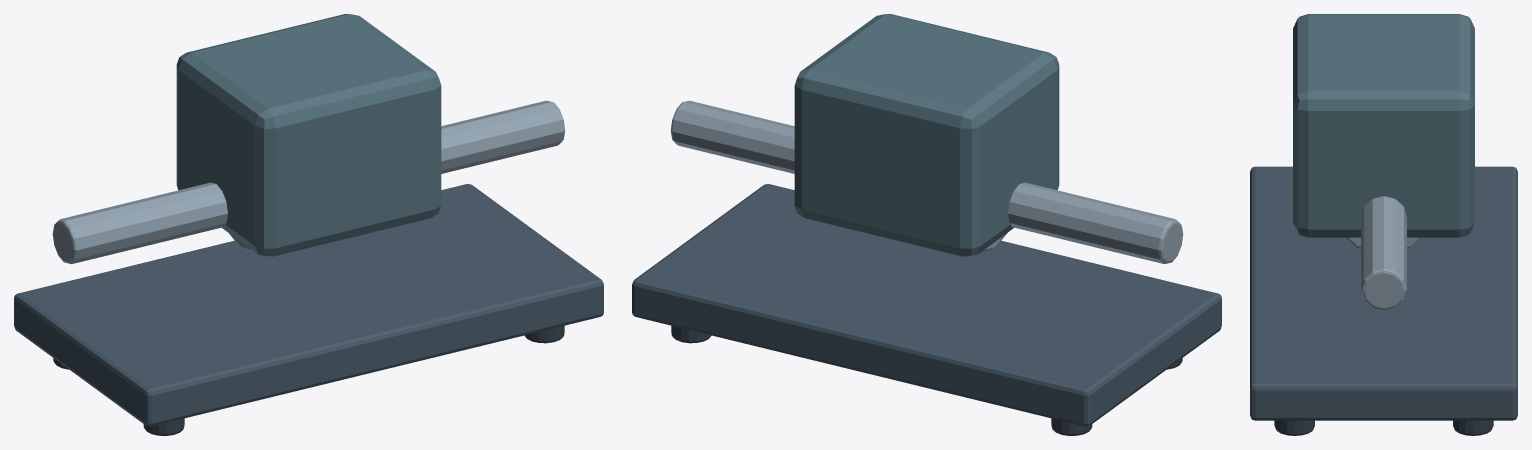
File: flexible-coupling-lod2.glb
3 renders of one model, left to right at view 1: azimuth 30°, elevation 25°; view 2: azimuth 150°, elevation 25°; view 3: azimuth 270°, elevation 25°, orthographic.
Parts seen in each view (by area): view 1: drive_base, coupling_guard, input_shaft, output_shaft; view 2: drive_base, coupling_guard, input_shaft, output_shaft; view 3: drive_base, coupling_guard, output_shaft, base_mount_1.6999999999999997_0.7000000000000001, base_mount_1.6999999999999997_-0.7000000000000001.
Boxes of the visible parts, x1=… form: drive_base: x1=14, y1=184, x2=603, y2=426; coupling_guard: x1=176, y1=14, x2=441, y2=256; input_shaft: x1=52, y1=182, x2=227, y2=264; output_shaft: x1=441, y1=100, x2=565, y2=173; drive_base: x1=632, y1=184, x2=1221, y2=426; coupling_guard: x1=794, y1=14, x2=1059, y2=256; input_shaft: x1=1008, y1=182, x2=1183, y2=264; output_shaft: x1=670, y1=100, x2=794, y2=173; drive_base: x1=1250, y1=166, x2=1517, y2=420; coupling_guard: x1=1293, y1=14, x2=1474, y2=237; output_shaft: x1=1361, y1=196, x2=1406, y2=310; base_mount_1.6999999999999997_0.7000000000000001: x1=1453, y1=420, x2=1493, y2=435; base_mount_1.6999999999999997_-0.7000000000000001: x1=1274, y1=420, x2=1314, y2=435.
Bounding box in the file's own units: 4.4 × 2.46 × 2.1.
